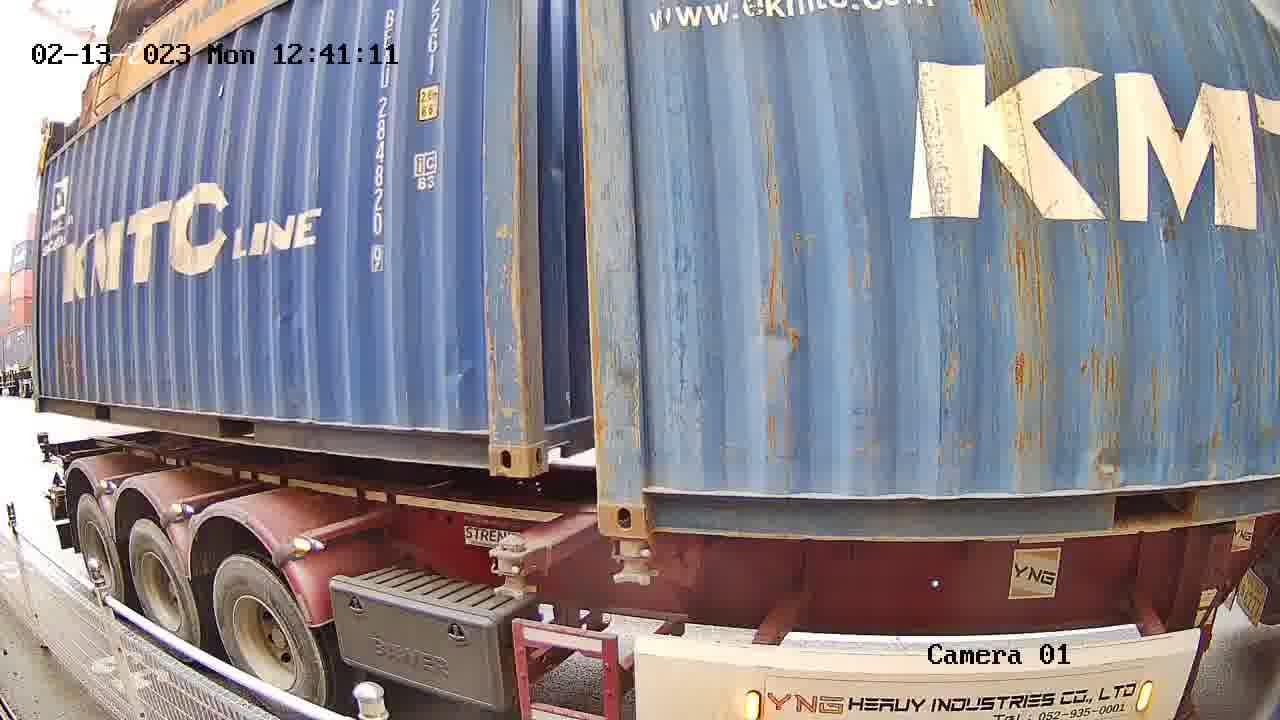Cone: (488, 536, 532, 603), (610, 538, 657, 591)
Hole_L: (598, 464, 691, 537), (525, 395, 579, 481)
Hole_R: (449, 401, 525, 480)
Tire: (214, 558, 323, 718), (127, 521, 198, 660), (77, 496, 123, 612)
